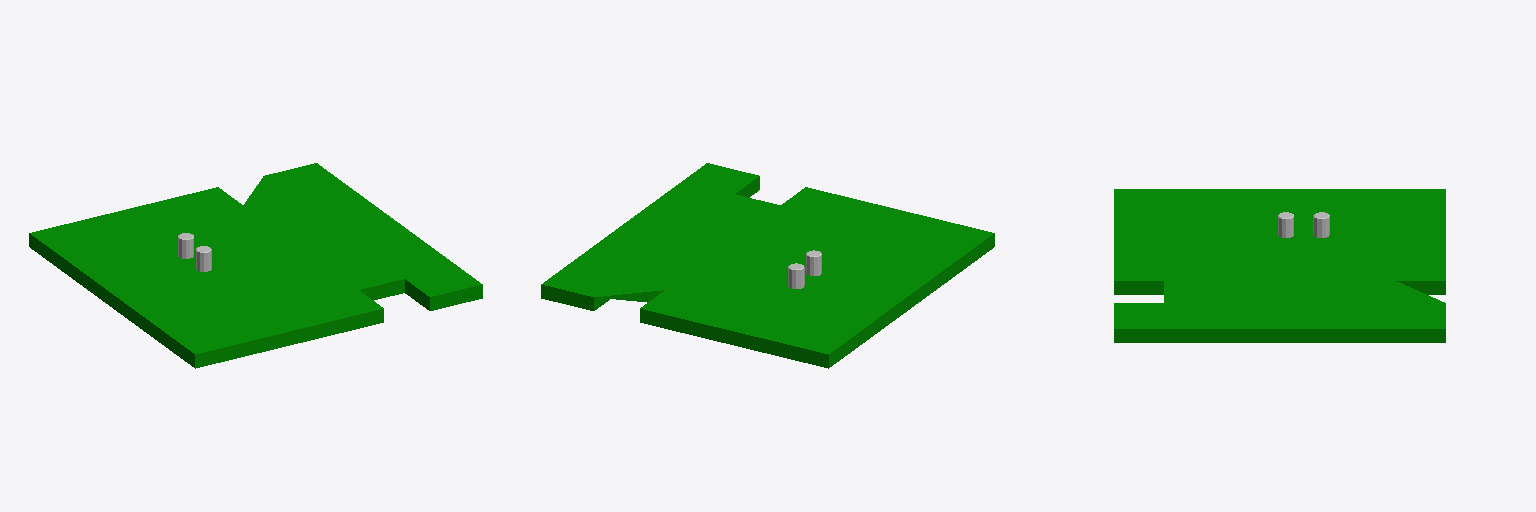
The model's file is robot_model1.obj.
3 views of the same model, side by side, from view 1: azimuth 30°, elevation 25°; view 2: azimuth 150°, elevation 25°; view 3: azimuth 270°, elevation 25° (orthographic).
Visible parts, largest first — view 1: Cube; view 2: Cube; view 3: Cube.
Part boxes in pixels (x1,y1,x2,y2): Cube: (29, 163, 482, 368); Cube: (541, 163, 994, 368); Cube: (1114, 189, 1445, 342).
Bounding box in the file's own units: 2 × 0.2238 × 2.